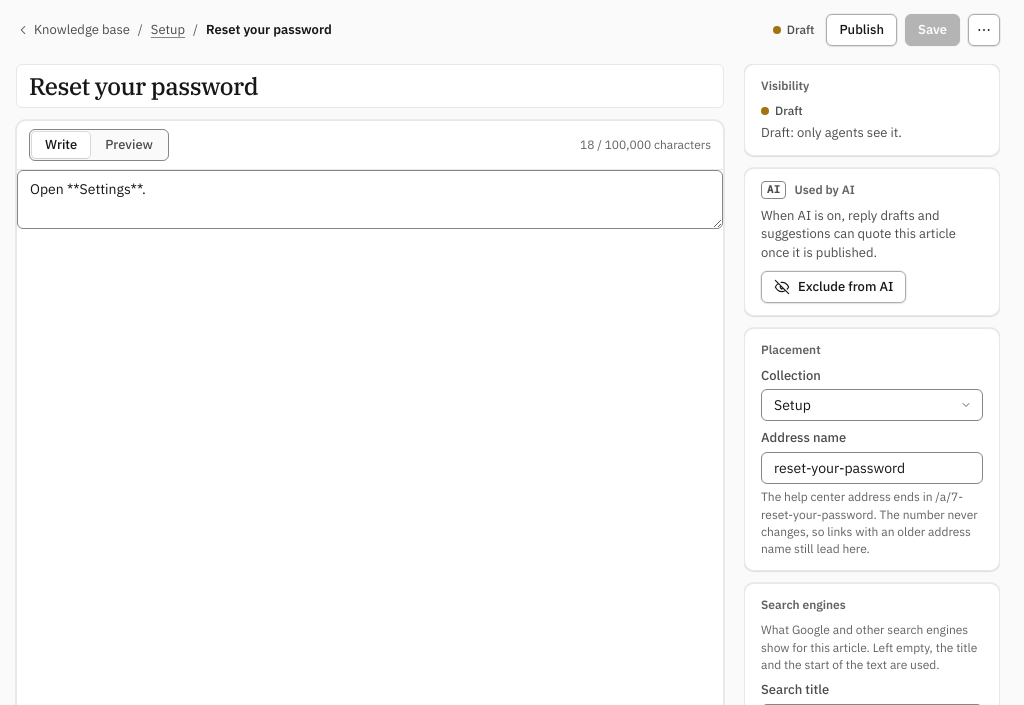
when someone else saved first, the text stays on screen and the person chooses: keep mine saves over theirs
Replace the text in the text box named "Text (Markdown)" with "My text" at (370, 199), box [17,170,723,229]
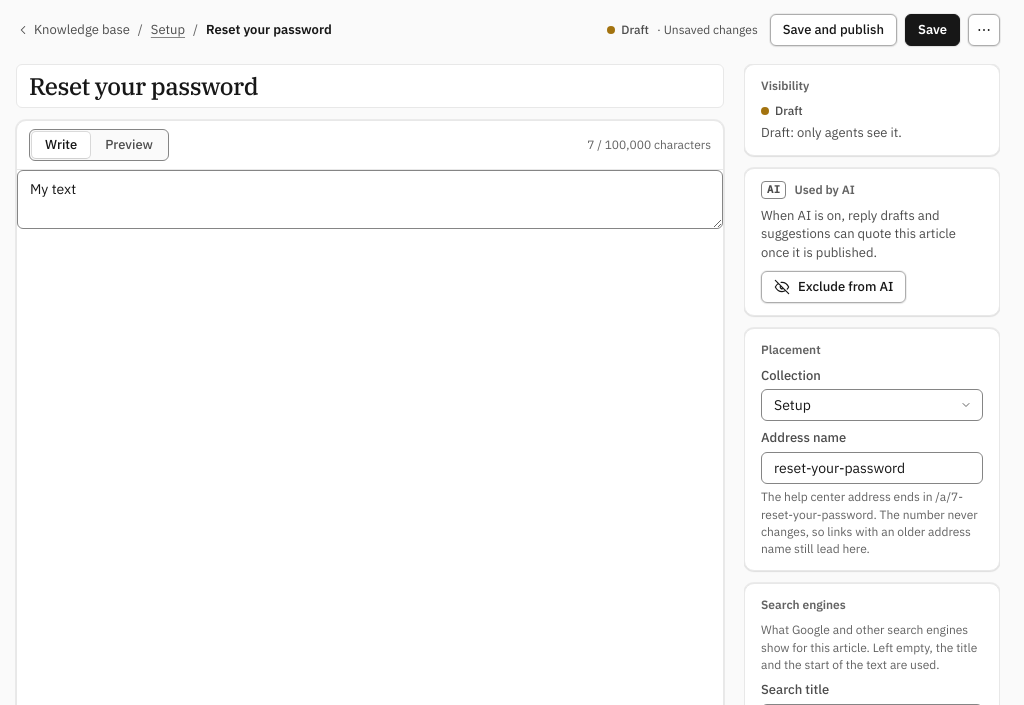
Click the button "Save".
click(932, 30)  # box [905,14,960,46]
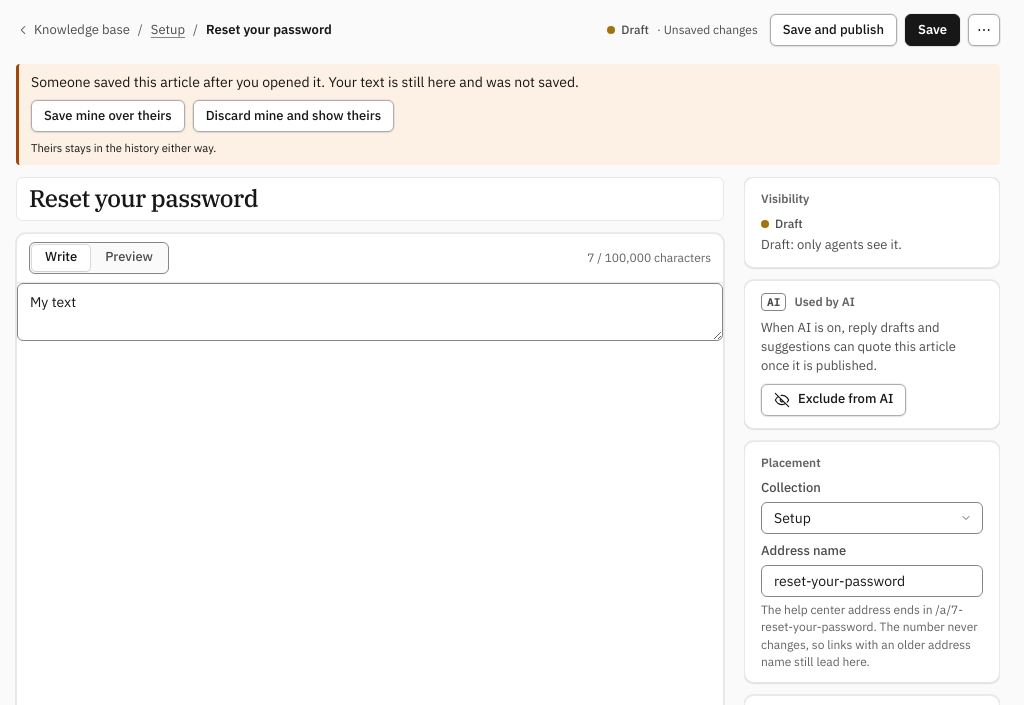
Now the text "Someone saved this article after you opened it" is shown, box [31,73,579,91]
Click the button "Save mine over theirs".
click(108, 116)  # box [31,100,185,132]
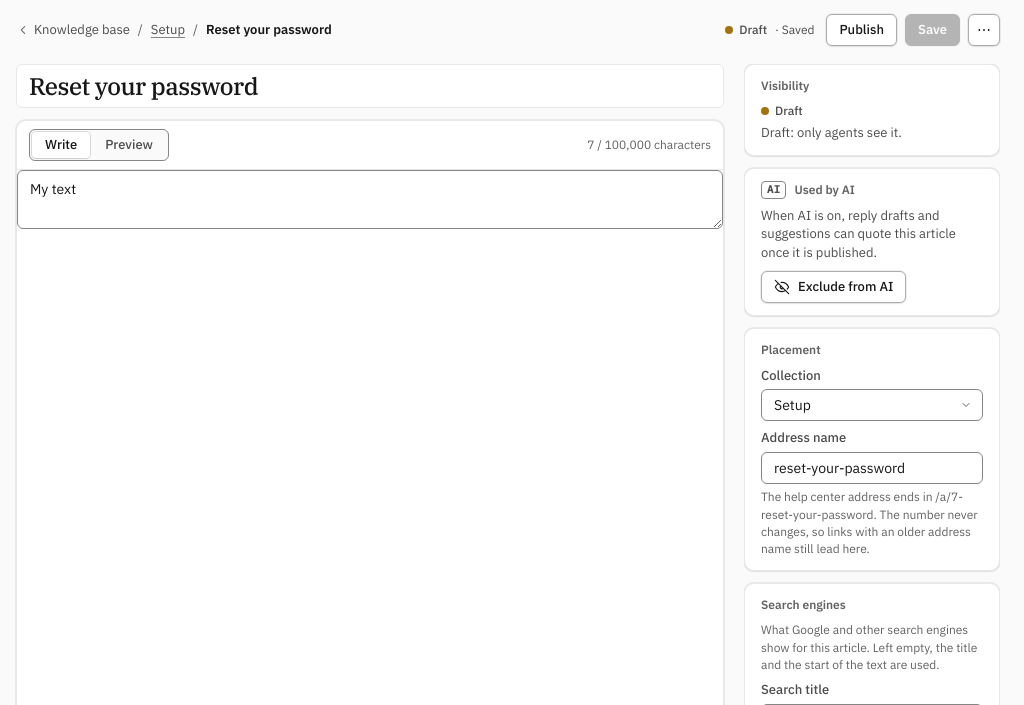
Now the text "Someone saved this article" is gone
